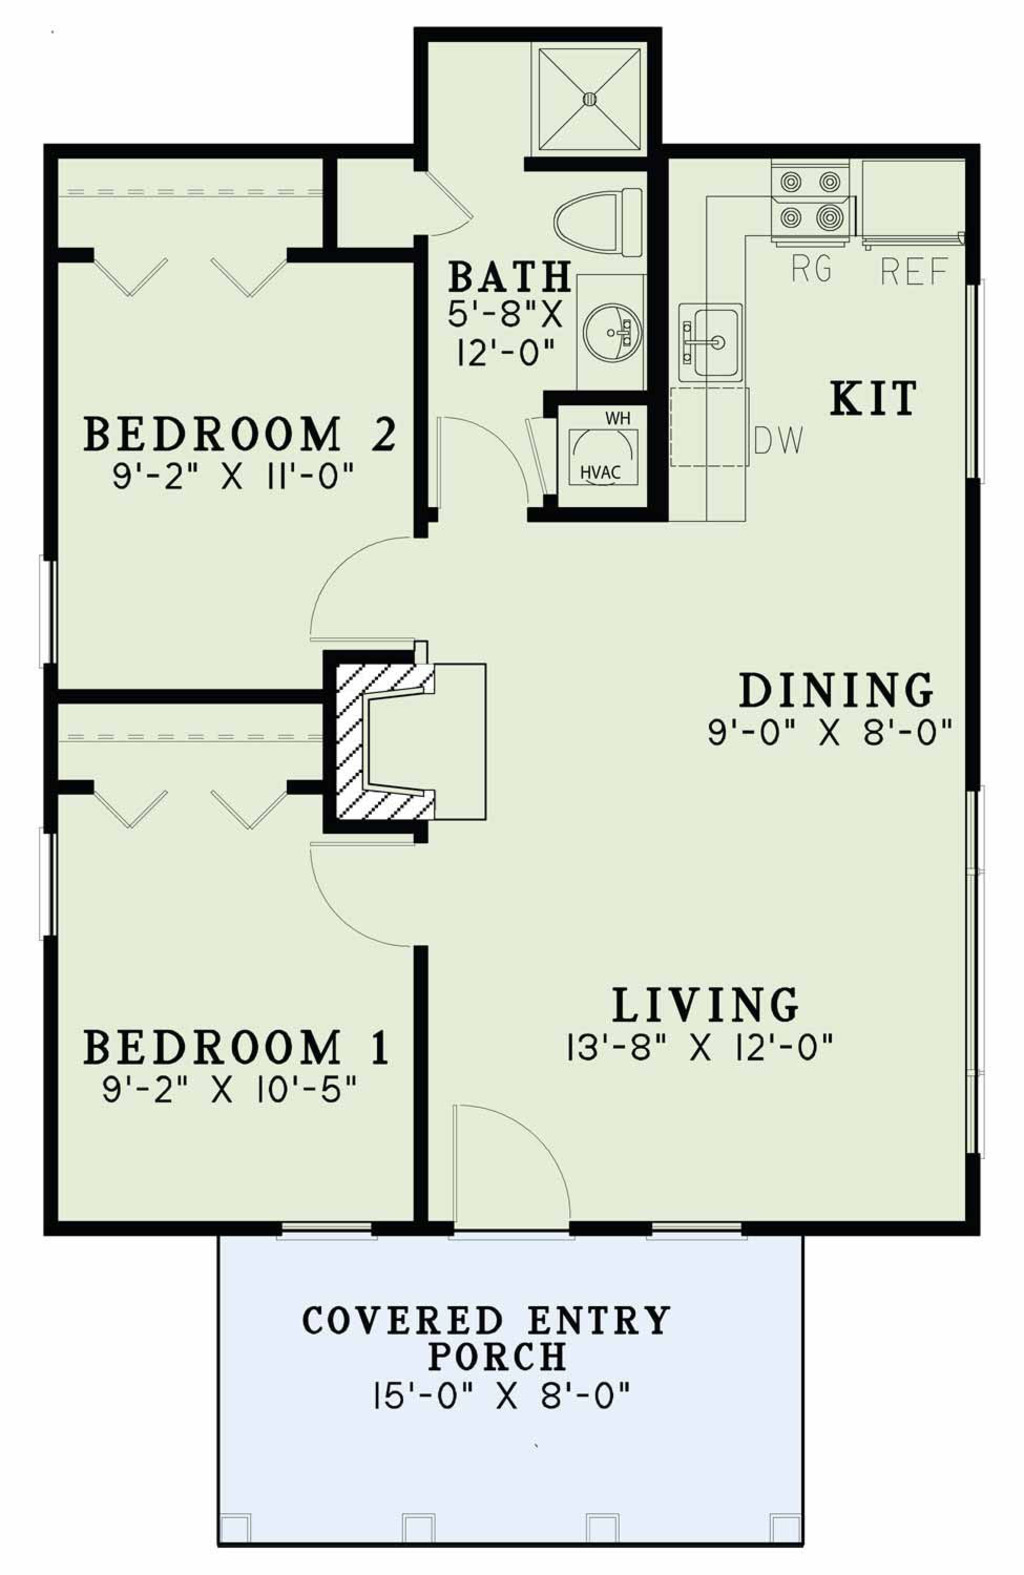door: (447, 1109, 582, 1232), (287, 535, 413, 642), (430, 401, 534, 523), (313, 844, 406, 951), (403, 166, 480, 247)
large_sink: (556, 183, 661, 267)
sink: (675, 280, 751, 399)
small_sink: (565, 266, 639, 385)
window: (277, 1218, 375, 1244), (44, 837, 68, 944), (973, 282, 984, 480), (655, 1218, 746, 1238), (46, 551, 61, 661)
